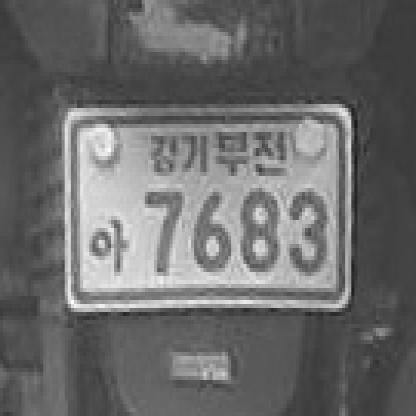bnum: (50, 88, 366, 320)
